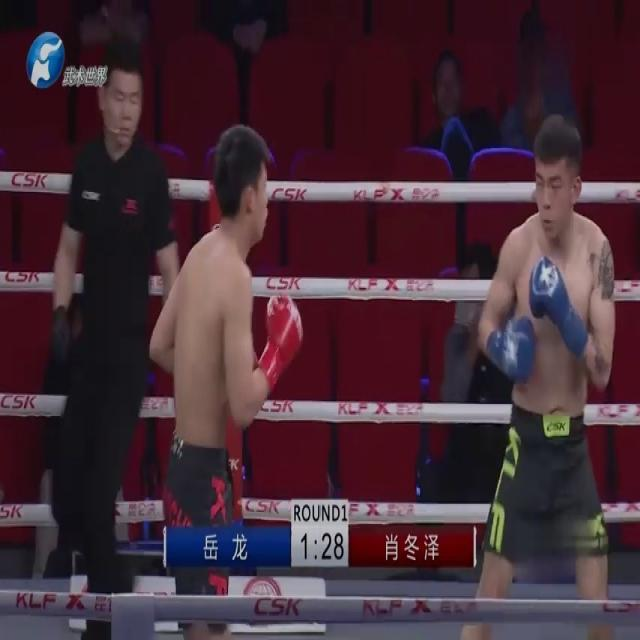fight: (462, 110, 615, 640), (151, 125, 302, 640)
non-fight: (50, 36, 178, 640)
